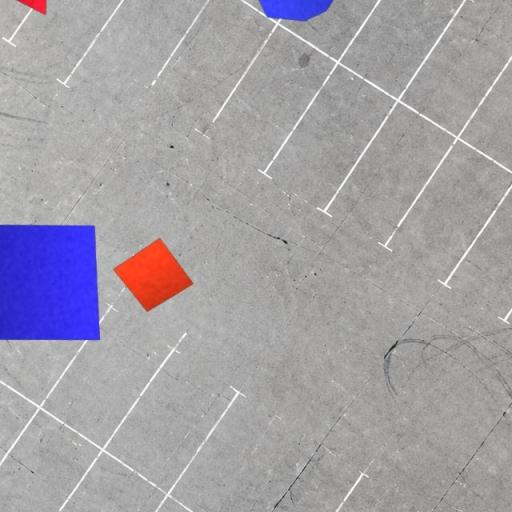BLUE_SQUARE: (0, 224, 101, 341)
RED_SQUARE: (112, 238, 194, 312)
